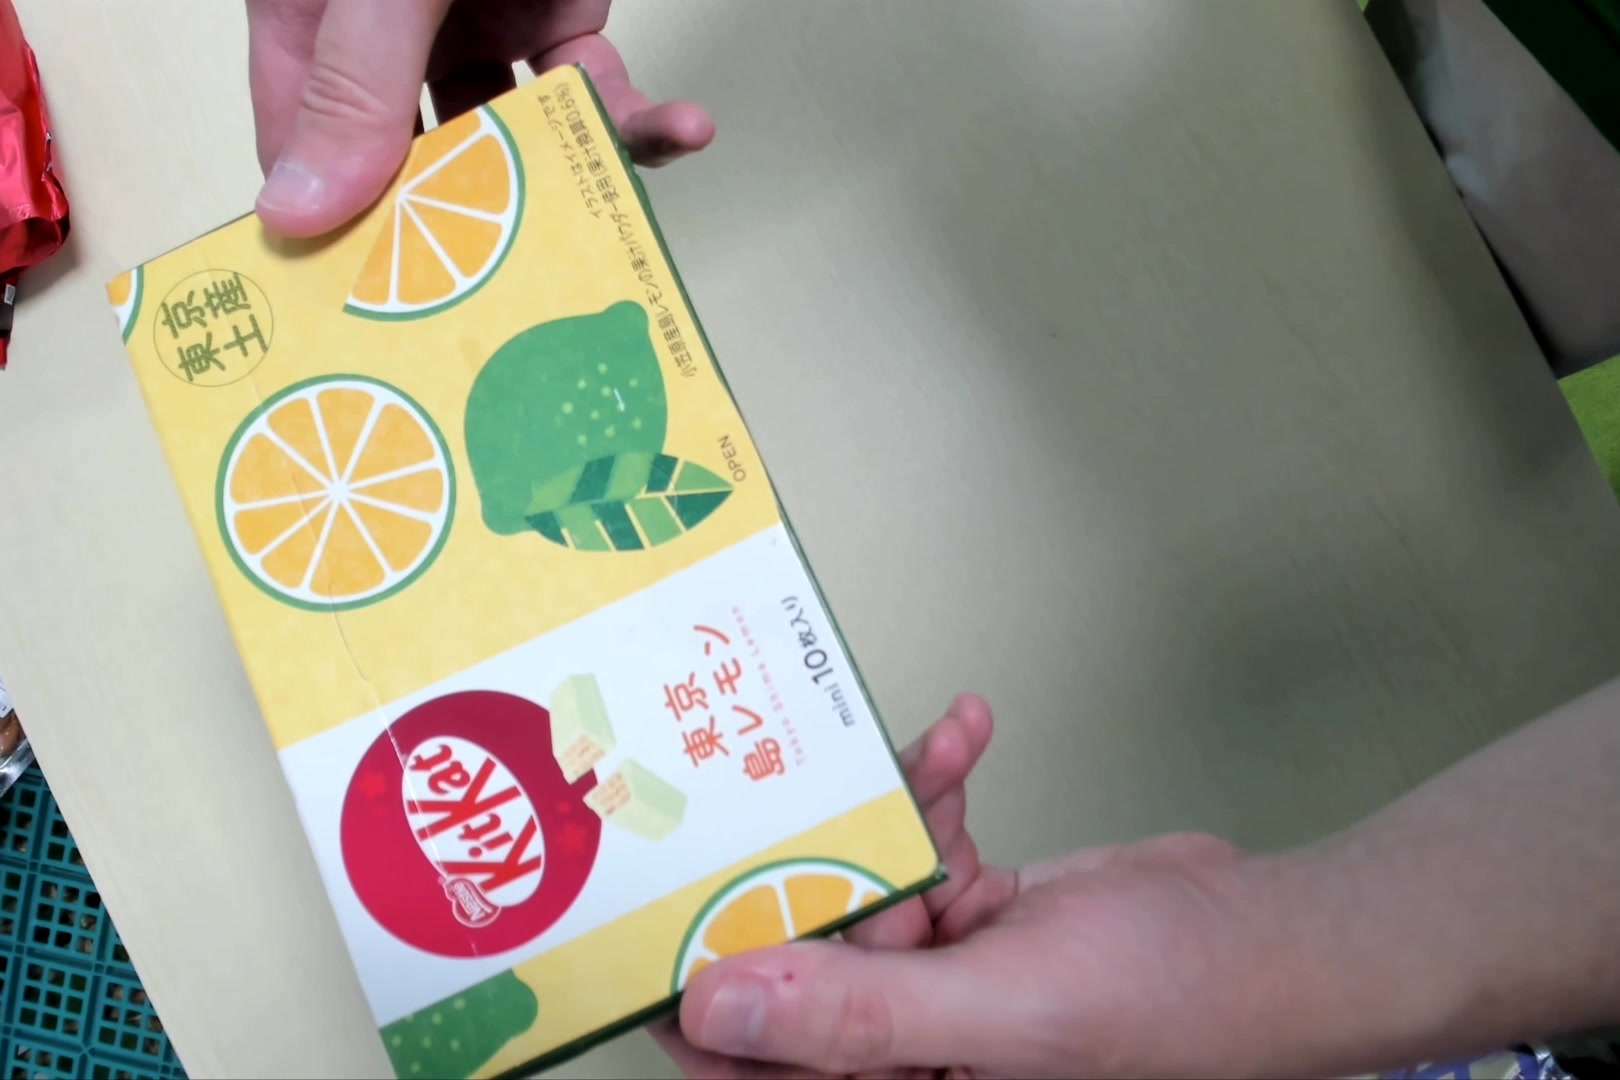SweetsChocolatesOthers_100-199g_NonHalal_NonHealthy: (105, 70, 931, 1080)
